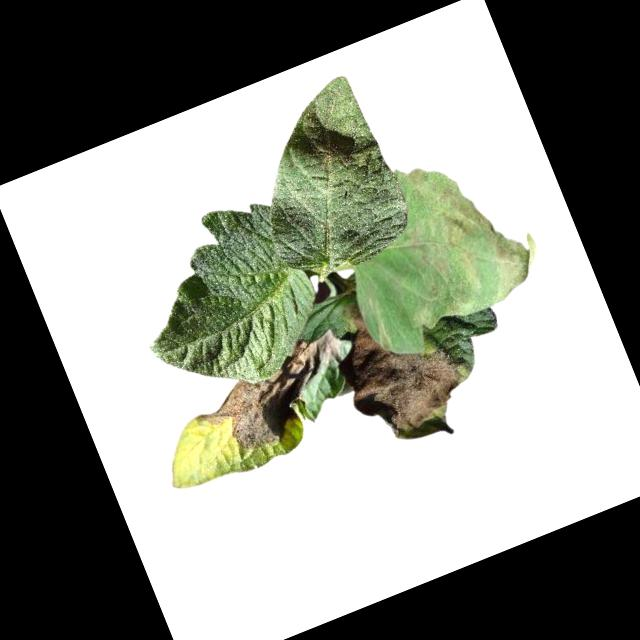Late_blight: (375, 130, 553, 329), (316, 273, 479, 451), (181, 325, 367, 468)
healthy: (107, 188, 333, 416), (228, 70, 420, 290)
